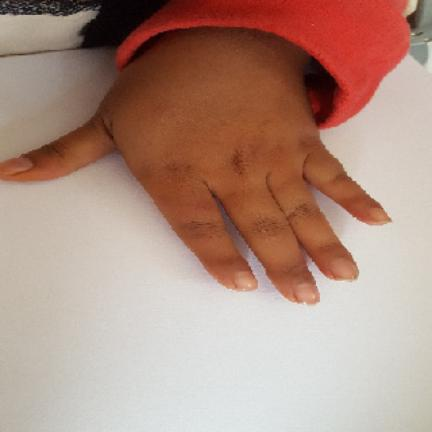Nail: (0, 157, 33, 175), (295, 283, 320, 306), (333, 259, 358, 280), (234, 272, 258, 292), (371, 207, 391, 224)
